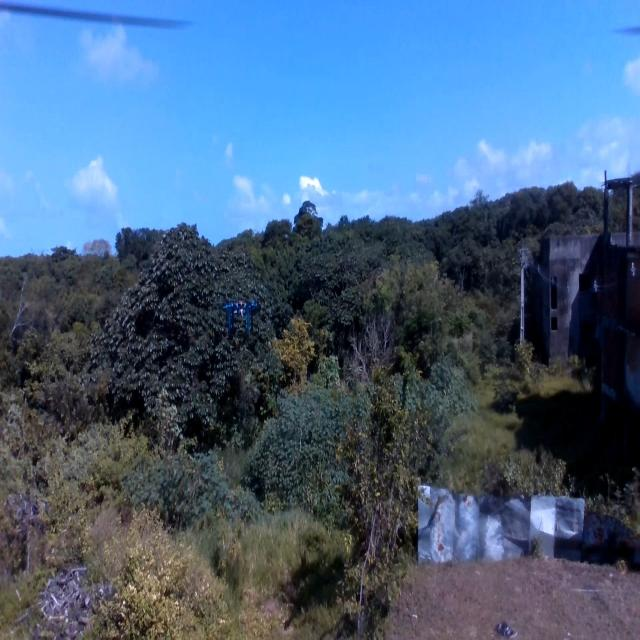-uav-: (222, 296, 258, 336)
